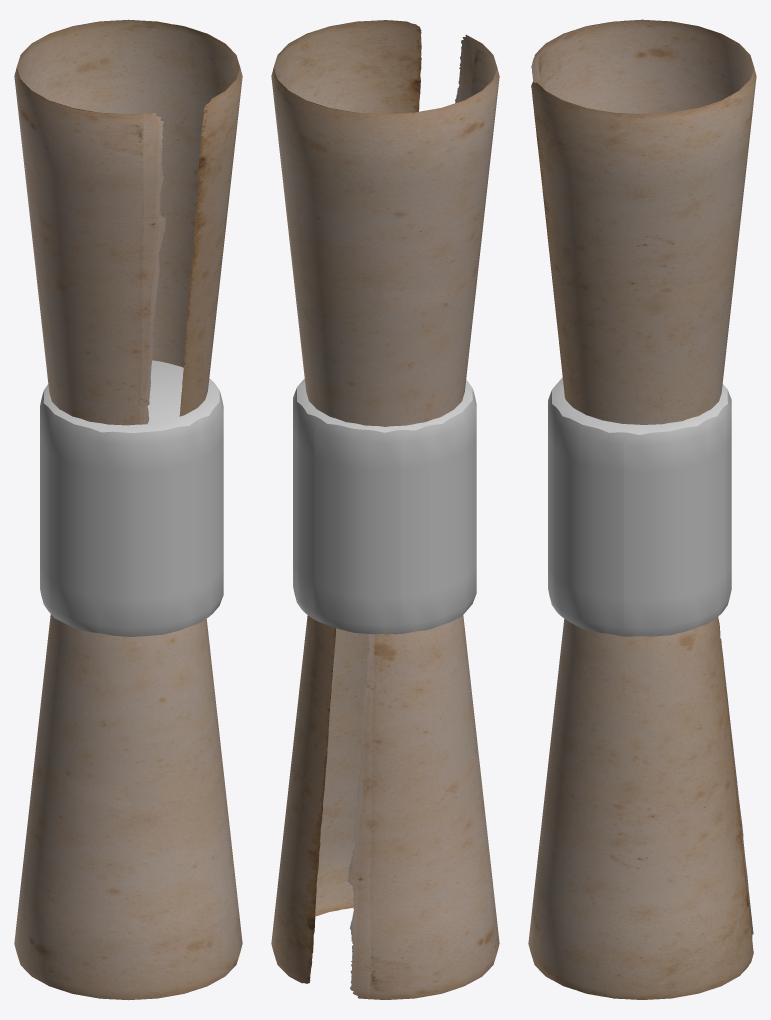
Rendered from scroll.fbx.
The picture shows the model from 3 angles, left to right: view 1: azimuth 30°, elevation 25°; view 2: azimuth 150°, elevation 25°; view 3: azimuth 270°, elevation 25°; orthographic projection.
Parts seen in each view (by area): view 1: Paper, Seal; view 2: Paper, Seal; view 3: Paper, Seal.
Boxes of the visible parts, left/top/right/bottom form: Paper: left=14, top=19, right=242, bottom=1000; Seal: left=40, top=360, right=223, bottom=636; Paper: left=271, top=20, right=499, bottom=999; Seal: left=293, top=379, right=476, bottom=634; Paper: left=528, top=19, right=756, bottom=999; Seal: left=548, top=377, right=731, bottom=636.
Size of the model in its own units: 9.8 by 43.08 by 9.8.
